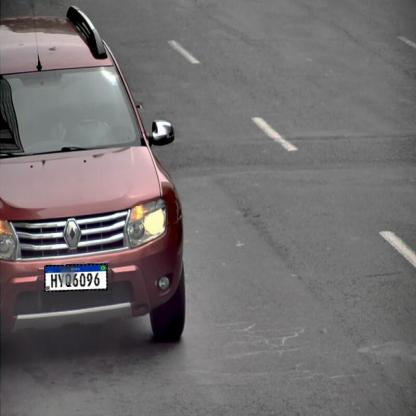PlacaM: (44, 263, 108, 292)
